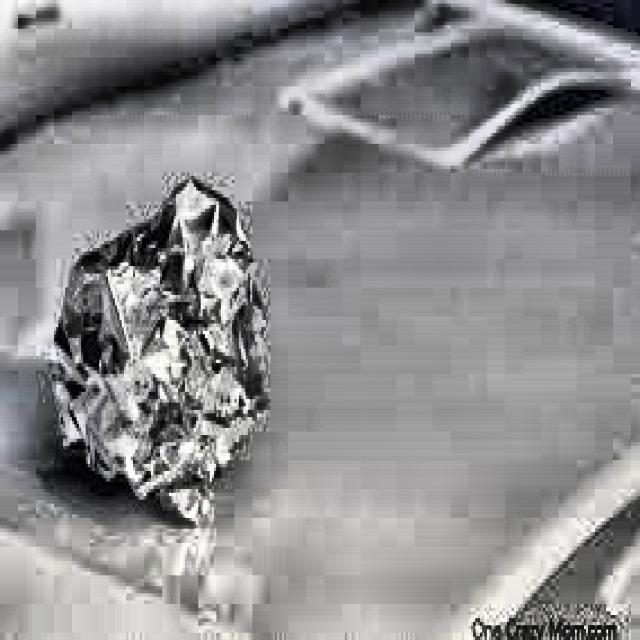Foil: (38, 156, 280, 547)
